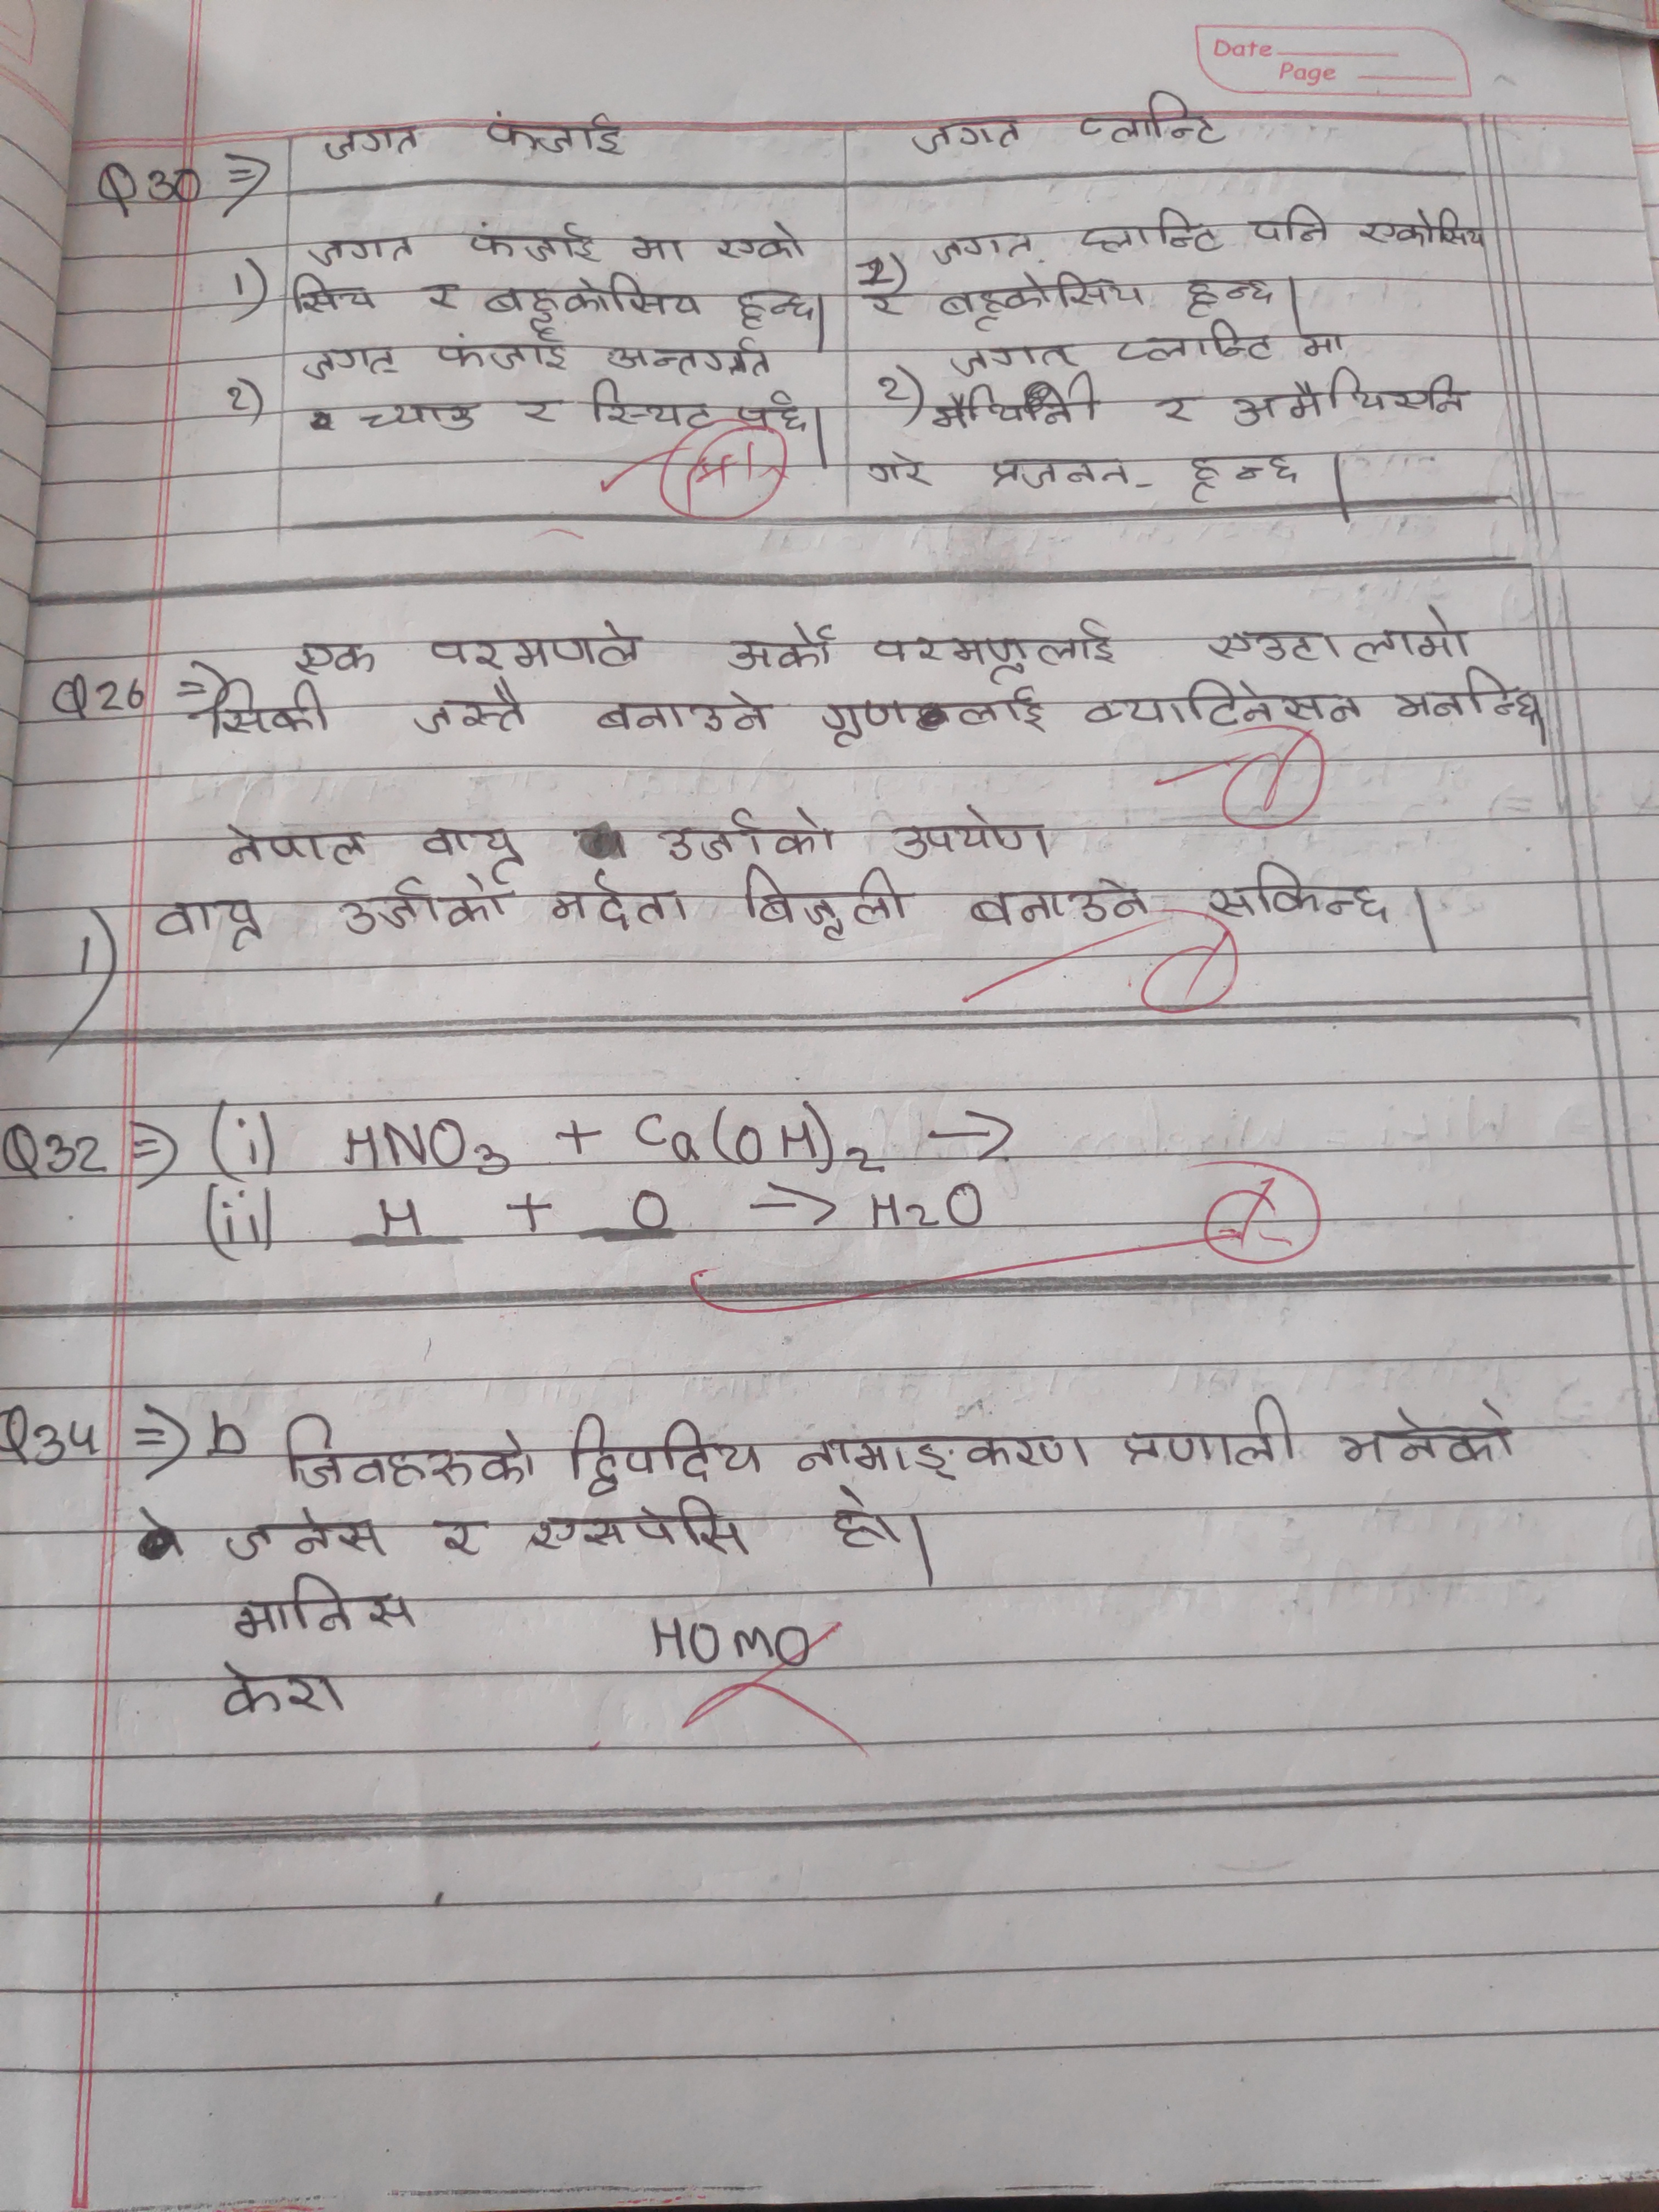text: (277, 1414, 538, 1494), (563, 1402, 770, 1501), (1082, 676, 1377, 735), (868, 617, 1129, 683), (793, 1428, 1103, 1484), (727, 857, 918, 942), (225, 1568, 427, 1646), (1110, 1393, 1298, 1475), (528, 1498, 756, 1564), (1202, 857, 1403, 930), (817, 683, 1051, 745), (481, 270, 706, 333), (932, 272, 1148, 334), (430, 613, 648, 674), (1333, 1400, 1520, 1470), (884, 799, 1053, 869), (328, 873, 514, 935), (1319, 359, 1478, 430), (650, 803, 836, 862), (213, 1500, 382, 1564), (1384, 671, 1546, 735), (591, 688, 781, 742), (1073, 85, 1230, 148), (964, 878, 1152, 930), (1349, 597, 1480, 672), (549, 867, 695, 934), (1114, 312, 1272, 373), (213, 1658, 343, 1731), (580, 369, 725, 434), (195, 678, 335, 742), (927, 380, 1093, 432), (1075, 204, 1225, 261), (213, 817, 376, 869), (592, 333, 774, 380), (481, 103, 627, 160), (972, 453, 1148, 500), (403, 678, 537, 738), (432, 324, 579, 380), (716, 620, 849, 678), (464, 214, 601, 268), (143, 894, 272, 951), (1199, 625, 1345, 674), (354, 390, 479, 446), (1225, 364, 1328, 432), (817, 1482, 908, 1559), (1359, 202, 1490, 254), (1178, 449, 1302, 503), (946, 336, 1079, 381), (416, 819, 528, 869), (906, 111, 1025, 158), (1176, 268, 1270, 322), (711, 216, 810, 265), (303, 341, 406, 385), (319, 124, 430, 164), (927, 225, 1039, 265), (734, 385, 810, 441), (1249, 199, 1333, 249), (289, 268, 380, 314), (418, 1505, 488, 1559), (307, 235, 418, 268), (732, 284, 812, 329), (293, 639, 378, 681), (856, 446, 927, 489), (425, 275, 477, 322), (624, 233, 688, 268), (514, 383, 563, 428), (1148, 390, 1199, 428), (1293, 324, 1347, 359)
